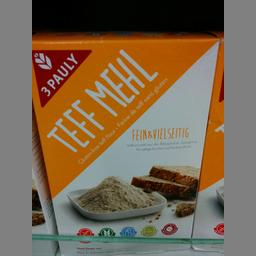flour: (30, 28, 220, 252)
